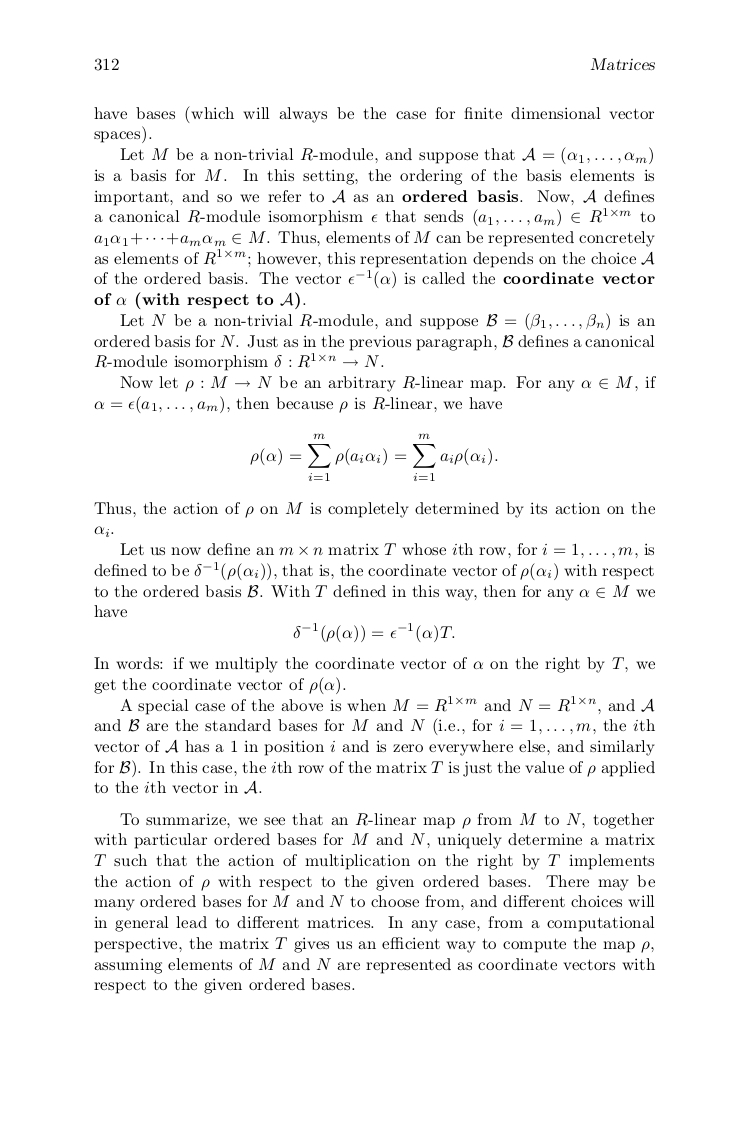formula: (250, 433, 497, 480), (293, 622, 454, 643)
